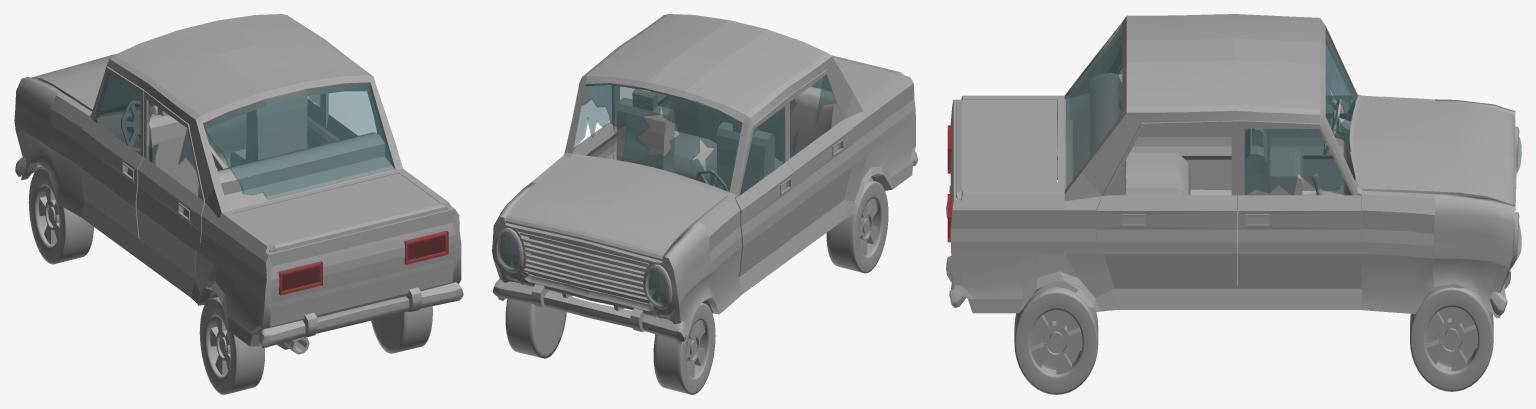
Rendered from carro.fbx.
3 views of the same model, side by side, from view 1: azimuth 30°, elevation 25°; view 2: azimuth 150°, elevation 25°; view 3: azimuth 270°, elevation 25° (orthographic). The views are drawn at different scales.
Visible parts, largest first — view 1: polySurface97, polySurface96, polySurface119, polySurface94, polySurface78, polySurface72, polySurface100, polySurface108, polySurface66, polySurface88, polySurface102, polySurface81 (+12 smaller); view 2: polySurface97, polySurface102, polySurface79, polySurface72, polySurface94, polySurface78, polySurface125, polySurface108, polySurface110, polySurface66, polySurface88, polySurface77 (+13 smaller); view 3: polySurface97, polySurface102, polySurface93, polySurface82, polySurface119, polySurface98, polySurface95, polySurface77, polySurface96, polySurface72, polySurface94, polySurface78 (+7 smaller).
Part boxes in pixels (x1,y1,x2,y2): polySurface97: (14, 14, 461, 346); polySurface96: (203, 83, 394, 199); polySurface119: (233, 173, 449, 252); polySurface94: (136, 90, 204, 279); polySurface78: (80, 66, 144, 239); polySurface72: (198, 132, 384, 199); polySurface100: (259, 282, 463, 347); polySurface108: (230, 96, 307, 166); polySurface66: (199, 297, 264, 394); polySurface88: (28, 167, 93, 264); polySurface102: (31, 54, 150, 114); polySurface81: (149, 107, 198, 196); polySurface97: (492, 14, 915, 344); polySurface102: (505, 153, 728, 260); polySurface79: (581, 83, 742, 192); polySurface72: (668, 86, 842, 186); polySurface94: (787, 69, 854, 237); polySurface78: (735, 97, 795, 276); polySurface125: (519, 232, 649, 303); polySurface108: (616, 89, 674, 172); polySurface110: (493, 279, 686, 341); polySurface66: (826, 180, 888, 273); polySurface88: (653, 303, 715, 394); polySurface77: (505, 290, 566, 358); polySurface97: (950, 14, 1516, 318); polySurface102: (1349, 96, 1515, 204); polySurface93: (1096, 120, 1237, 288); polySurface82: (1238, 120, 1361, 288); polySurface119: (956, 99, 1056, 199); polySurface98: (1244, 128, 1351, 195); polySurface95: (1014, 287, 1098, 394); polySurface77: (1410, 287, 1493, 391); polySurface96: (1066, 25, 1122, 187); polySurface72: (1090, 73, 1190, 195); polySurface94: (1115, 61, 1231, 190); polySurface78: (1270, 38, 1354, 190).
Size of the model in its own units: 3.98 by 4.78 by 8.54.
